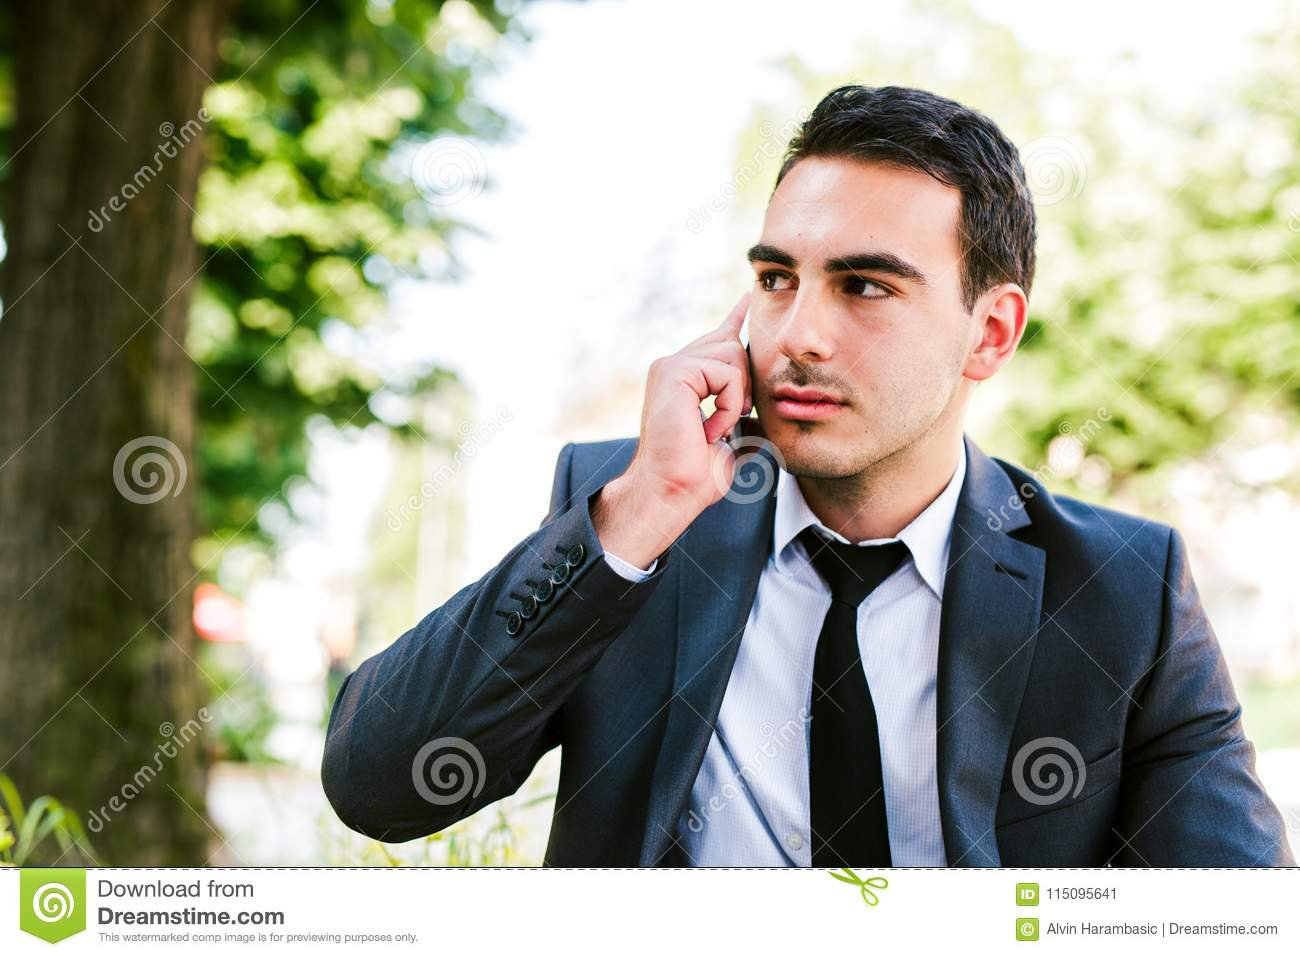phone: (725, 332, 765, 456)
talk: (622, 220, 946, 517)
